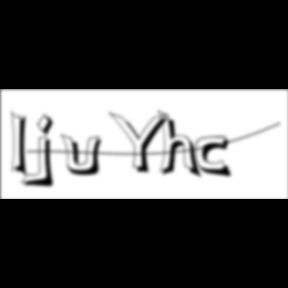Y: (109, 110, 176, 176)
c: (196, 136, 236, 180)
h: (158, 108, 206, 182)
j: (34, 113, 62, 191)
l: (12, 108, 34, 182)
u: (61, 132, 109, 178)
